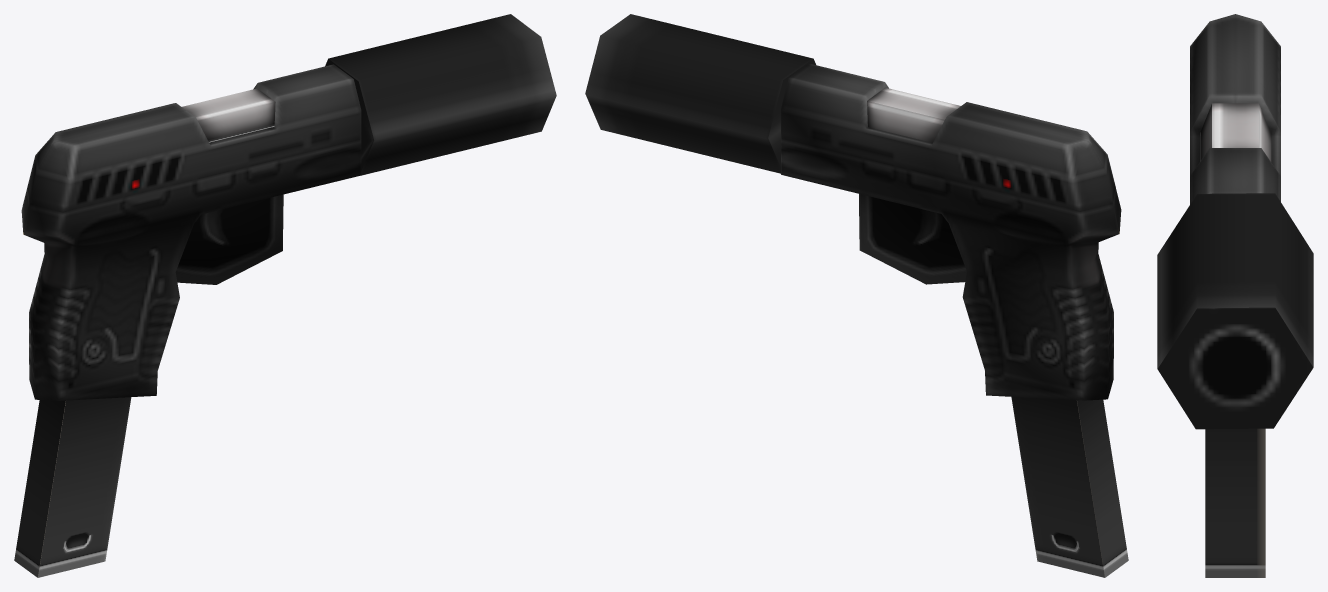
Rendered from pistol usp lv3.FBX.
The picture shows the model from 3 angles, left to right: view 1: azimuth 30°, elevation 25°; view 2: azimuth 150°, elevation 25°; view 3: azimuth 270°, elevation 25°; orthographic projection. The views are drawn at different scales.
Visible parts, largest first — view 1: Object104; view 2: Object104; view 3: Object104.
Part boxes in pixels (x1=…): Object104: x1=14, y1=14, x2=556, y2=577; Object104: x1=585, y1=14, x2=1128, y2=577; Object104: x1=1157, y1=14, x2=1313, y2=577.
Bounding box in the file's own units: 33.25 × 26.65 × 6.97.
